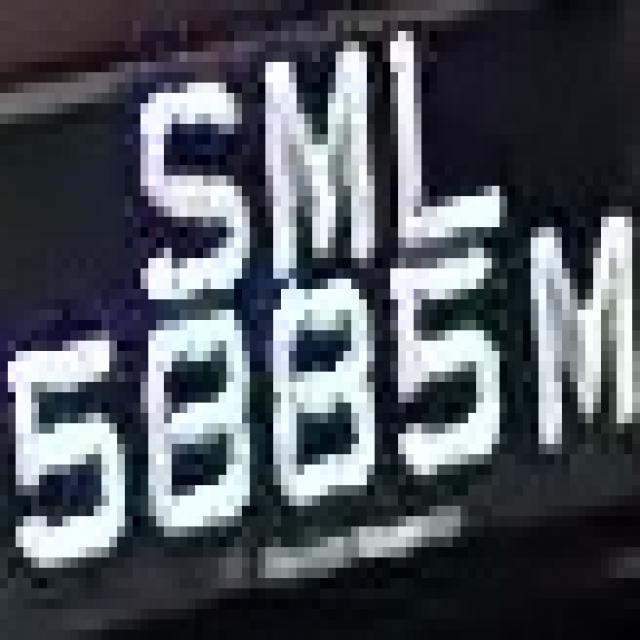5: (16, 279, 132, 609), (382, 238, 508, 516)
8: (250, 258, 390, 506), (140, 299, 258, 568)
L: (375, 10, 507, 289)
M: (226, 21, 382, 310), (6, 4, 8, 8)
S: (109, 73, 258, 300)
